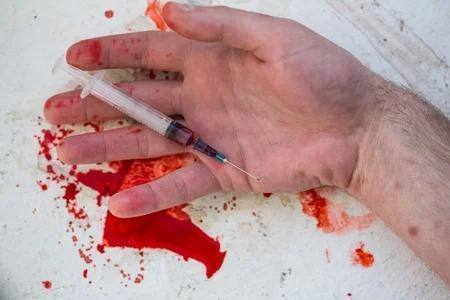Fire: (36, 124, 133, 264), (103, 208, 226, 278), (186, 192, 282, 238), (66, 31, 162, 70), (299, 189, 375, 234), (119, 154, 196, 190), (44, 90, 100, 124), (116, 80, 182, 108), (103, 249, 148, 286), (165, 121, 194, 146), (145, 0, 166, 30), (133, 69, 184, 80), (353, 243, 375, 268), (105, 10, 114, 18), (42, 282, 50, 290), (82, 270, 88, 280)
